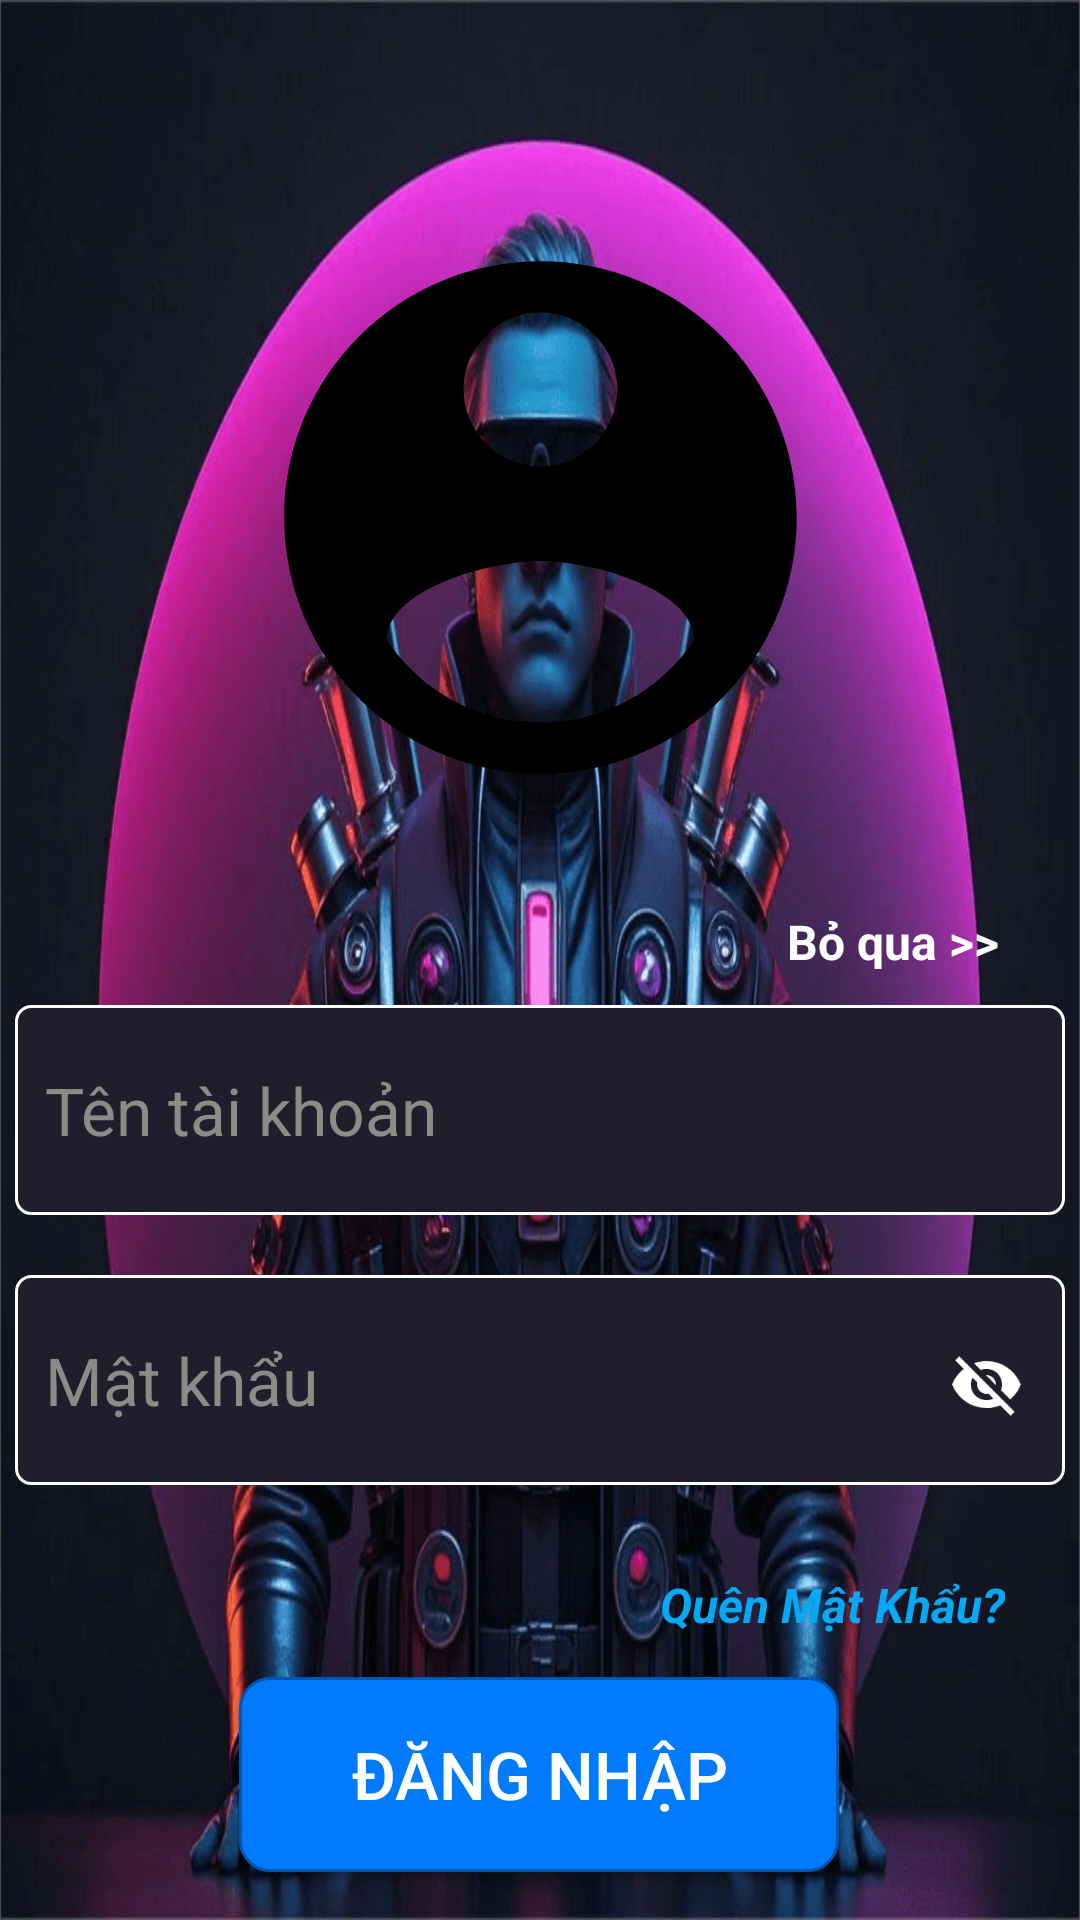

Icons on this 1080px x 1920px Android screen, each with its box as bbox=(x1, y1, x2, y2):
eye off: bbox=(952, 1356, 1021, 1416)
